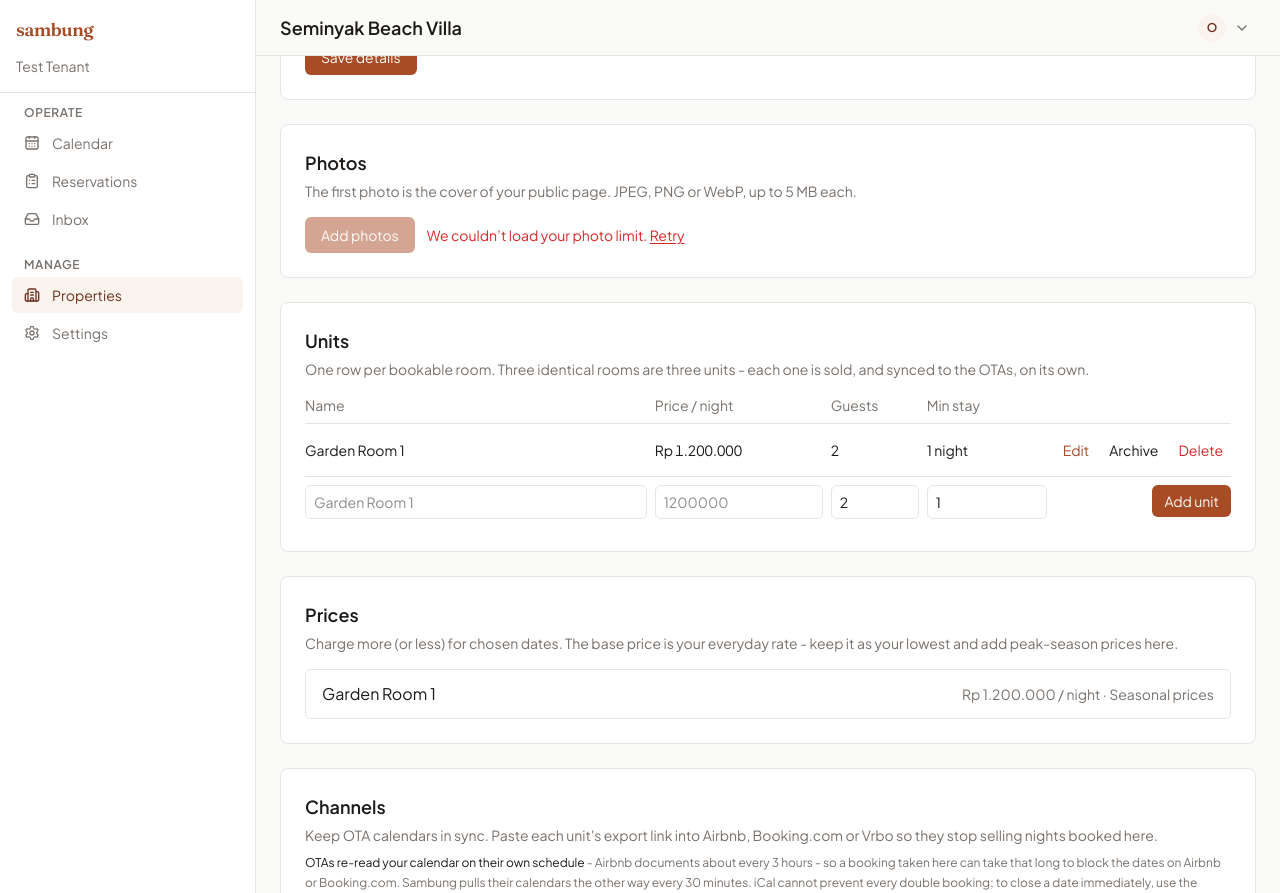
Scenario: units section (§4.5) › surfaces a save error that maps to no field (unit deleted in another tab)
This screenshot has width=1280, height=893.
(page scrolled)
Click the button "Edit".
click(1076, 450)  # box [1055,436,1097,464]
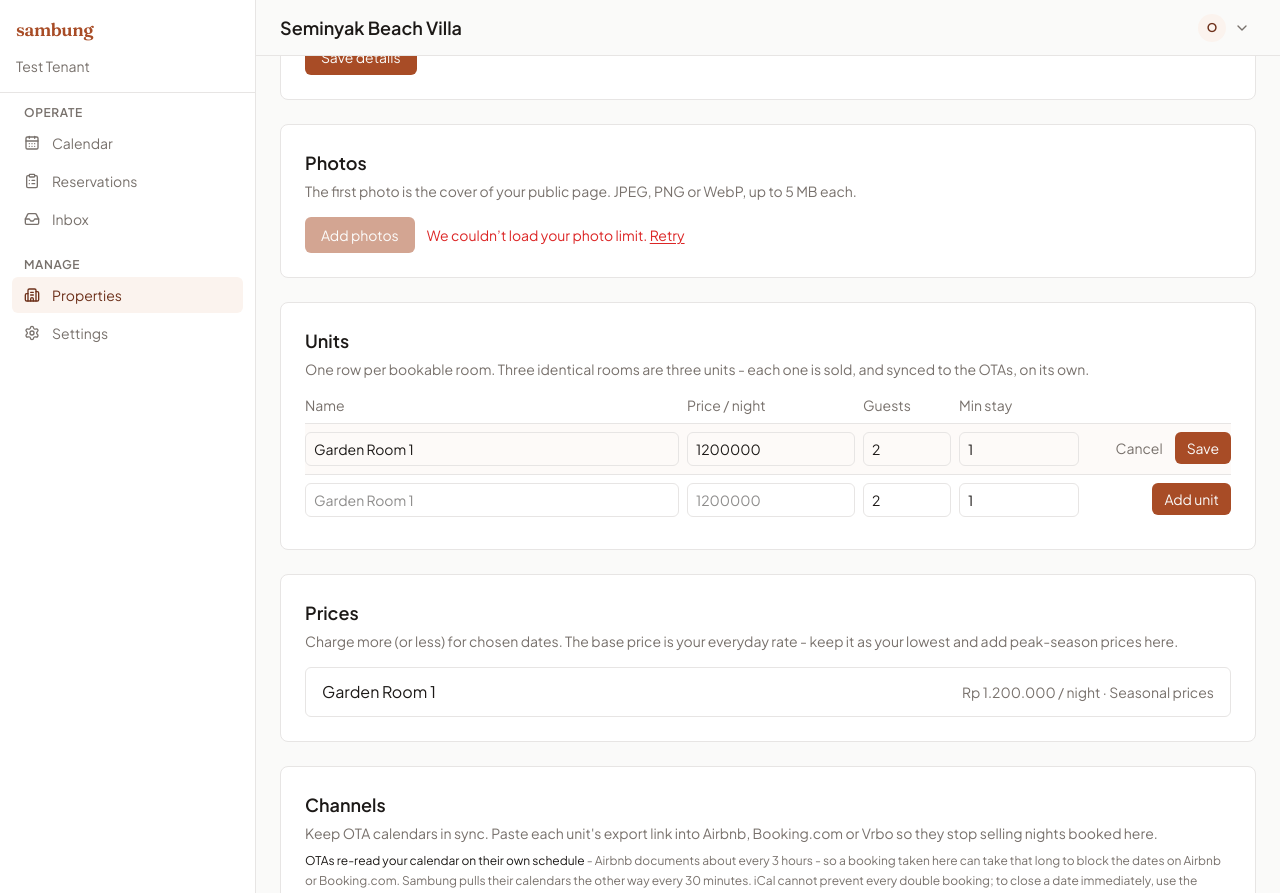
Type "999000" into the field named "Edit price per night in rupiah".
click(771, 449); type("999000")  # box [687,432,855,466]
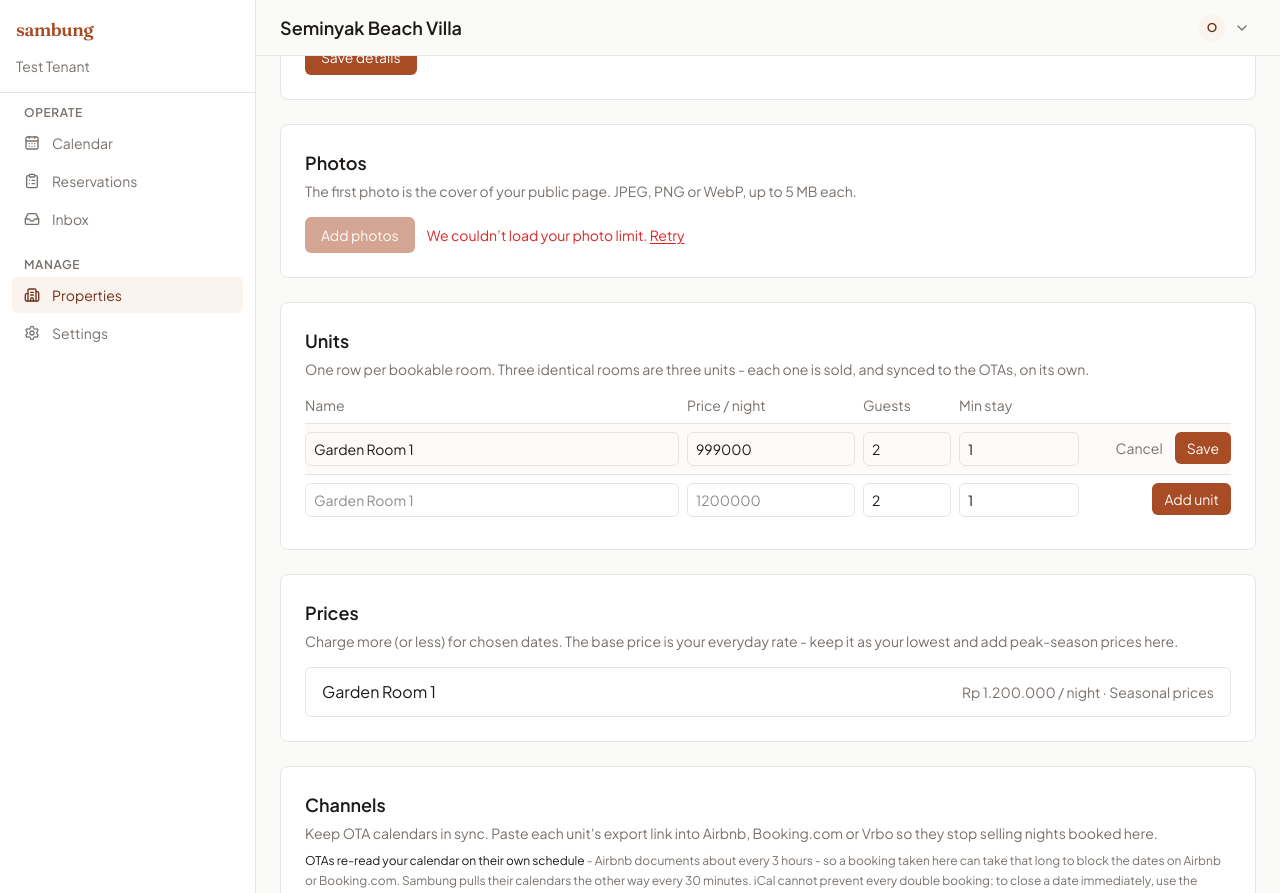
Click the button "Save".
click(1203, 448)  # box [1175,432,1231,464]
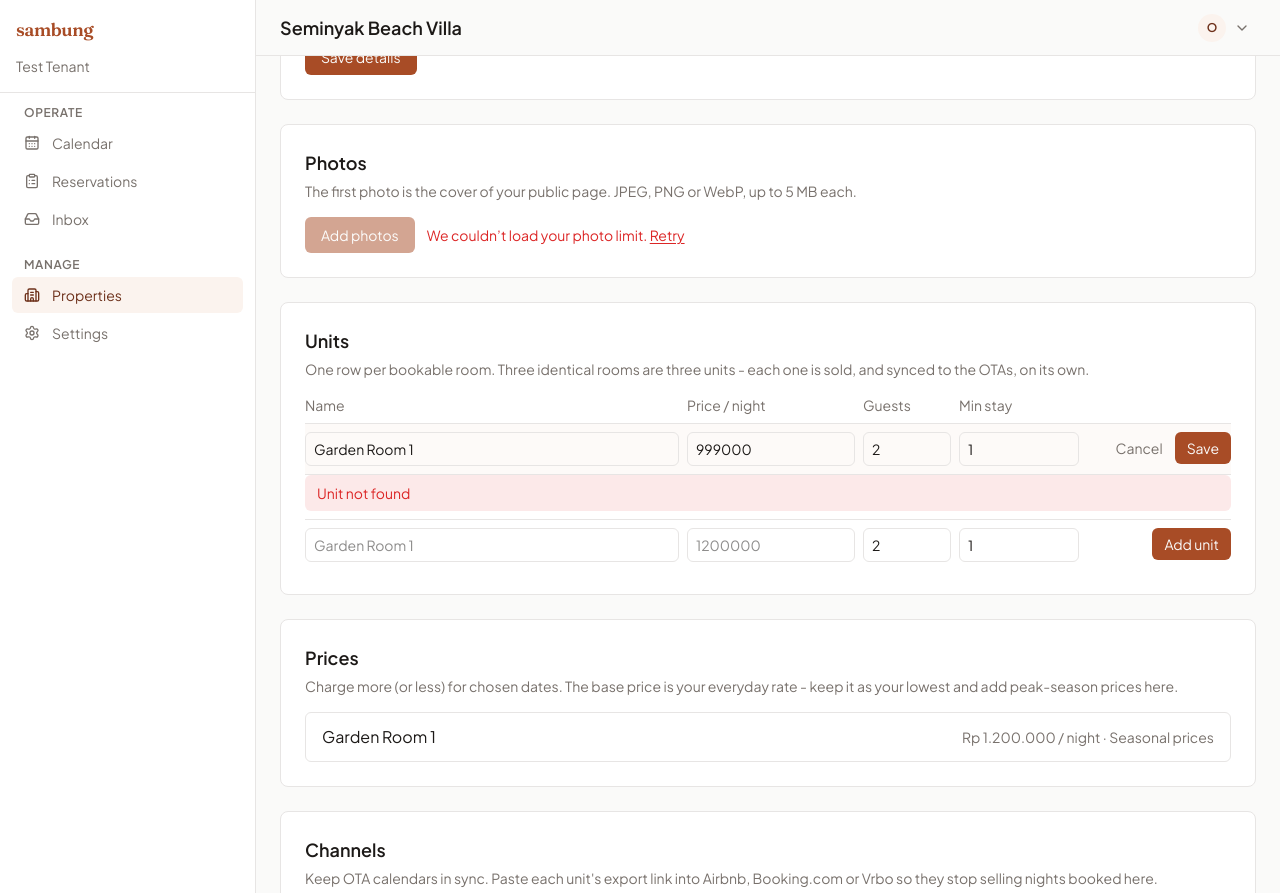
Now the text "Unit not found" is shown, box [305,475,1231,511]
